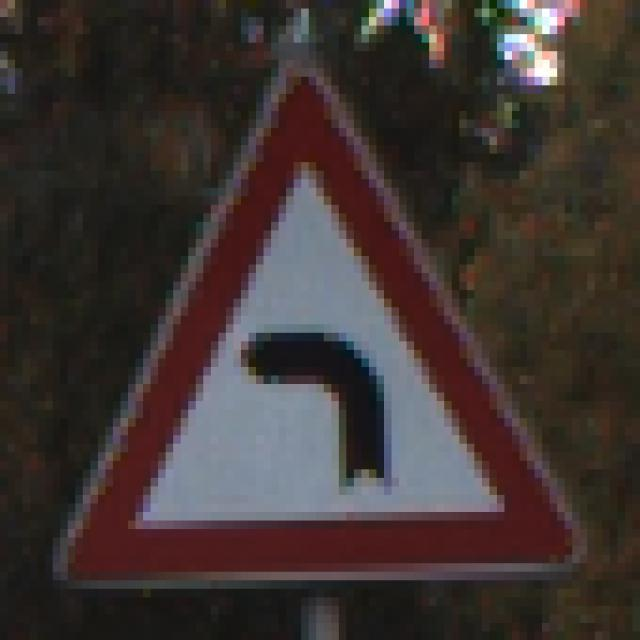left hand curve: (58, 74, 581, 574)
